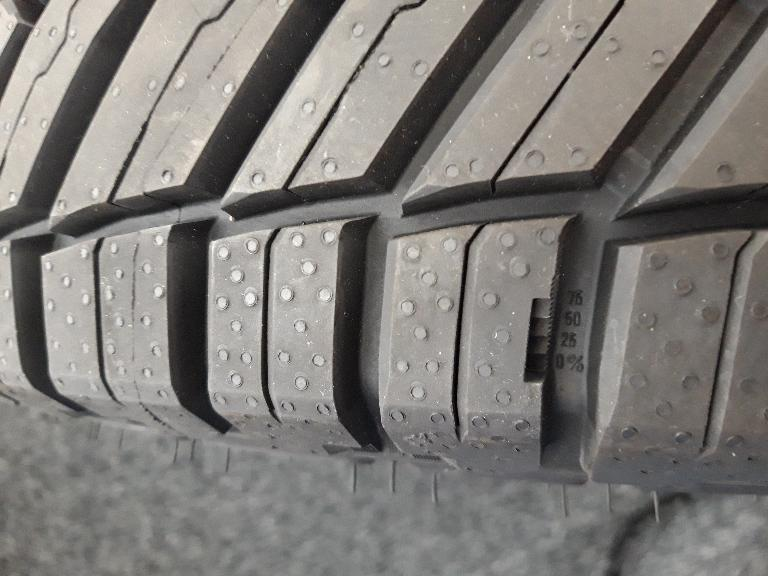temoin:100: (522, 275, 561, 388)
